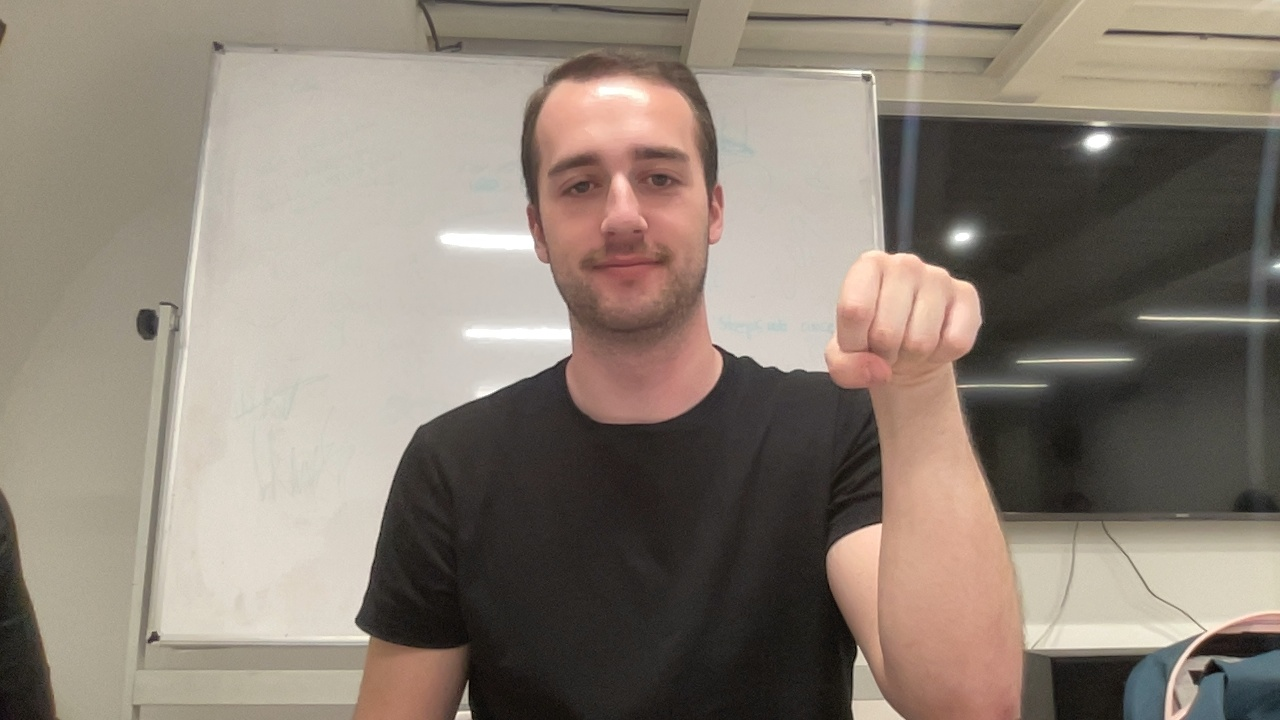Yes: (821, 244, 988, 438)
